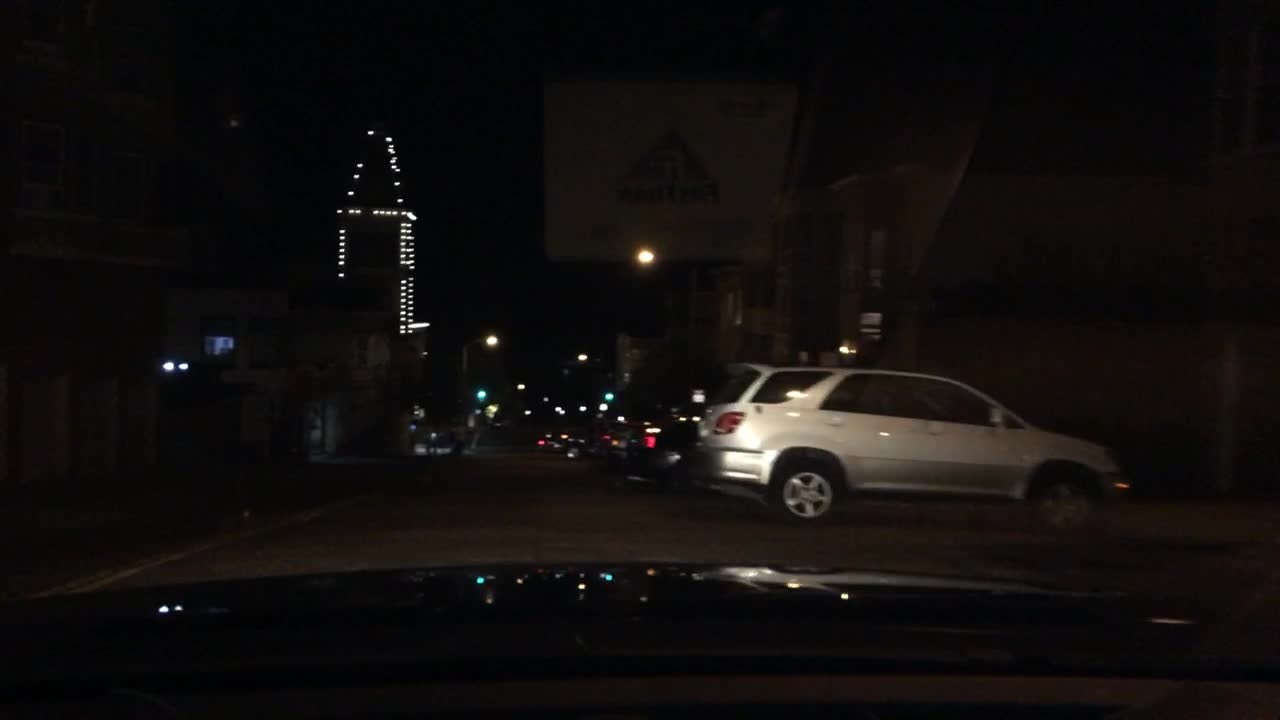car: (699, 364, 1121, 540), (600, 411, 699, 493), (539, 427, 600, 459), (490, 416, 506, 430)
traffic light: (471, 385, 487, 401), (598, 390, 616, 403)
